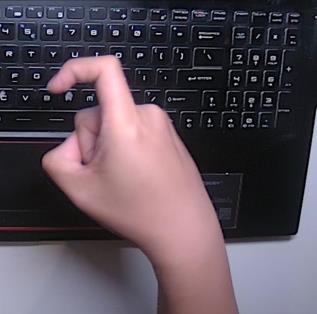anticlockwise: (37, 49, 226, 250)
